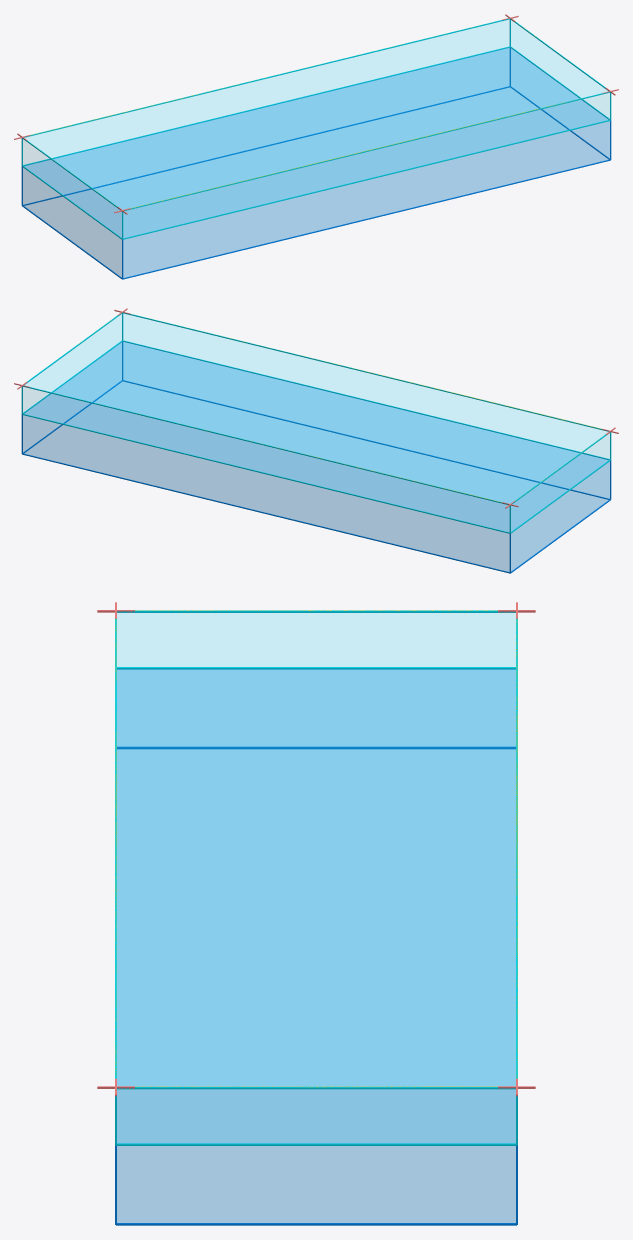
Rendered from underground_45x16_marker_v2.glb.
3 renders of one model, top to bottom at view 1: azimuth 30°, elevation 25°; view 2: azimuth 150°, elevation 25°; view 3: azimuth 270°, elevation 25°, orthographic. The views are drawn at different scales.
Visible parts, largest first — view 1: lower_volume_dark, upper_volume_light, upper_frame_light_x_1, upper_frame_light_x_2, lower_frame_dark_x_1, upper_frame_light_x_0, lower_frame_dark_x_0, upper_frame_light_x_3, ground_south; view 2: lower_volume_dark, upper_volume_light, upper_frame_light_x_0, lower_frame_dark_x_0, upper_frame_light_x_1, upper_frame_light_x_2, upper_frame_light_x_3, lower_frame_dark_x_1; view 3: lower_volume_dark, upper_volume_light, lower_frame_dark_z_8, upper_frame_light_z_11, lower_frame_dark_z_10, upper_frame_light_z_10, upper_frame_light_z_8, upper_frame_light_z_9, upper_frame_light_x_2, upper_frame_light_x_3.
Part boxes in pixels (bbox=[...]): lower_volume_dark: bbox=[23, 47, 609, 277]; upper_volume_light: bbox=[23, 19, 609, 237]; upper_frame_light_x_1: bbox=[122, 119, 610, 239]; upper_frame_light_x_2: bbox=[24, 18, 510, 137]; lower_frame_dark_x_1: bbox=[122, 159, 610, 279]; upper_frame_light_x_0: bbox=[23, 46, 510, 165]; lower_frame_dark_x_0: bbox=[23, 86, 509, 205]; upper_frame_light_x_3: bbox=[125, 92, 610, 210]; ground_south: bbox=[131, 99, 579, 208]; lower_volume_dark: bbox=[23, 341, 609, 571]; upper_volume_light: bbox=[23, 313, 609, 531]; upper_frame_light_x_0: bbox=[22, 413, 510, 533]; lower_frame_dark_x_0: bbox=[22, 453, 510, 573]; upper_frame_light_x_1: bbox=[122, 340, 609, 459]; upper_frame_light_x_2: bbox=[22, 386, 508, 504]; upper_frame_light_x_3: bbox=[122, 312, 609, 431]; lower_frame_dark_x_1: bbox=[123, 380, 609, 499]; lower_volume_dark: bbox=[117, 669, 515, 1222]; upper_volume_light: bbox=[117, 612, 515, 1143]; lower_frame_dark_z_8: bbox=[117, 746, 515, 749]; upper_frame_light_z_11: bbox=[117, 1086, 515, 1089]; lower_frame_dark_z_10: bbox=[116, 1223, 516, 1225]; upper_frame_light_z_10: bbox=[116, 1143, 516, 1145]; upper_frame_light_z_8: bbox=[117, 667, 515, 669]; upper_frame_light_z_9: bbox=[117, 610, 515, 612]; upper_frame_light_x_2: bbox=[516, 618, 517, 1078]; upper_frame_light_x_3: bbox=[115, 618, 116, 1078].
Bounding box in the file's own units: 46.5 × 6.1 × 17.5.
